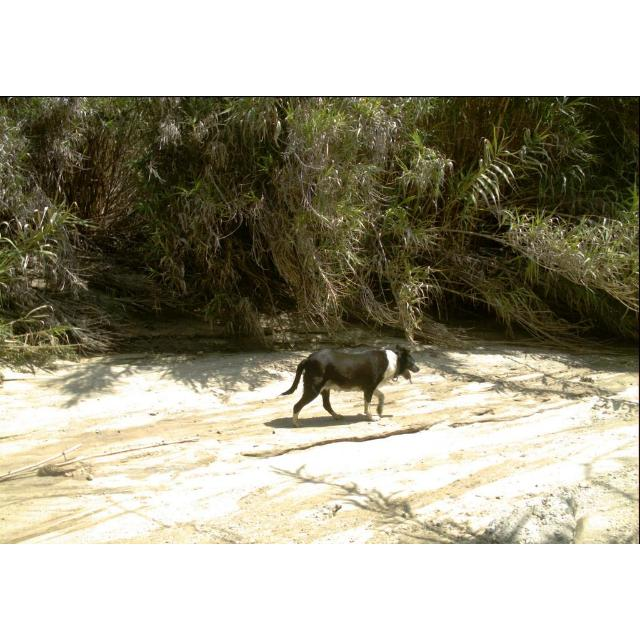animals: (279, 342, 421, 428)
